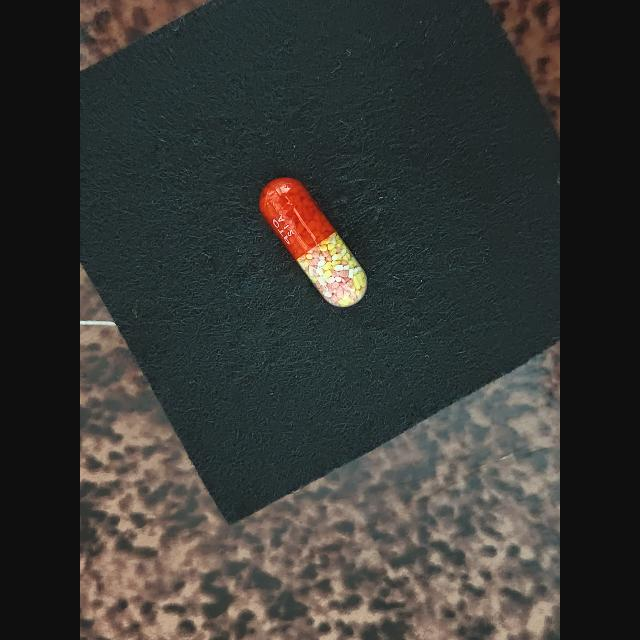Intact Capsule: (259, 177, 367, 307)
